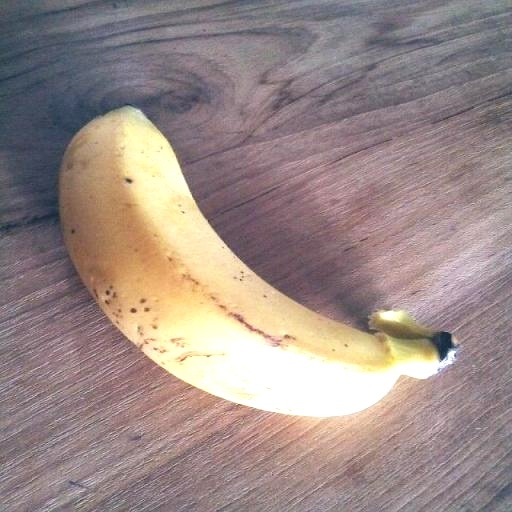fruit: (60, 107, 454, 415)
